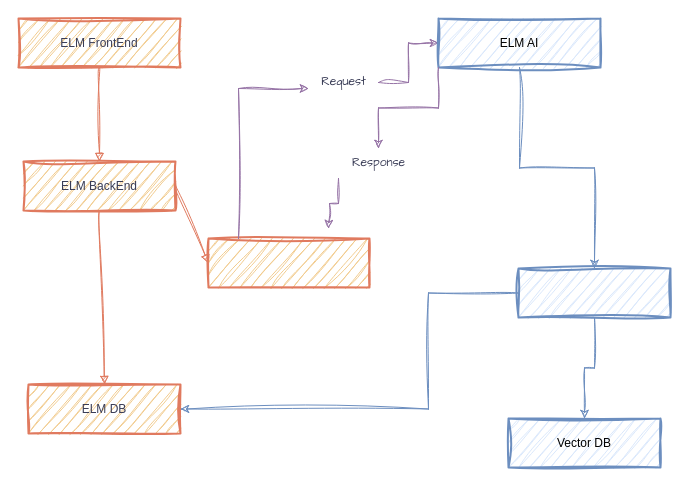
Image size: 688x485. Some labels were removed from this diagram. Each missing label, with the centre of its shape:
ELM SOA: the point at 288,262
LLM Server: the point at 594,292
